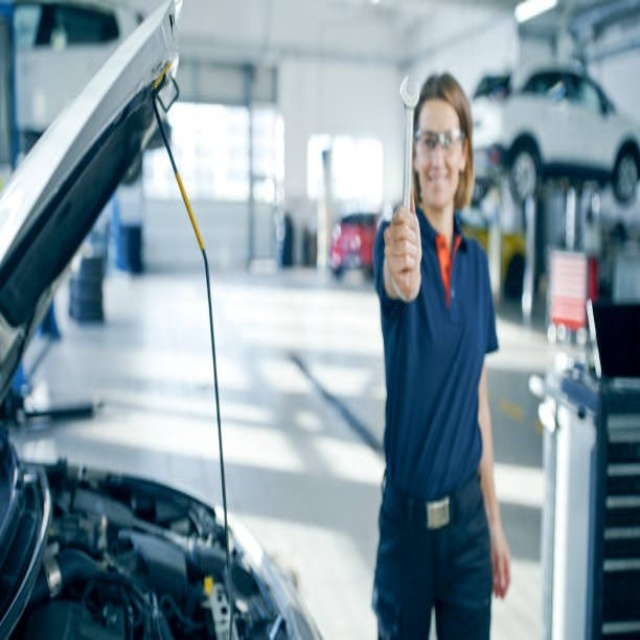Gafas: (414, 128, 464, 150)
Sin_guantes: (380, 195, 428, 307), (488, 517, 513, 599)
Sin_mascara: (420, 162, 455, 203)
